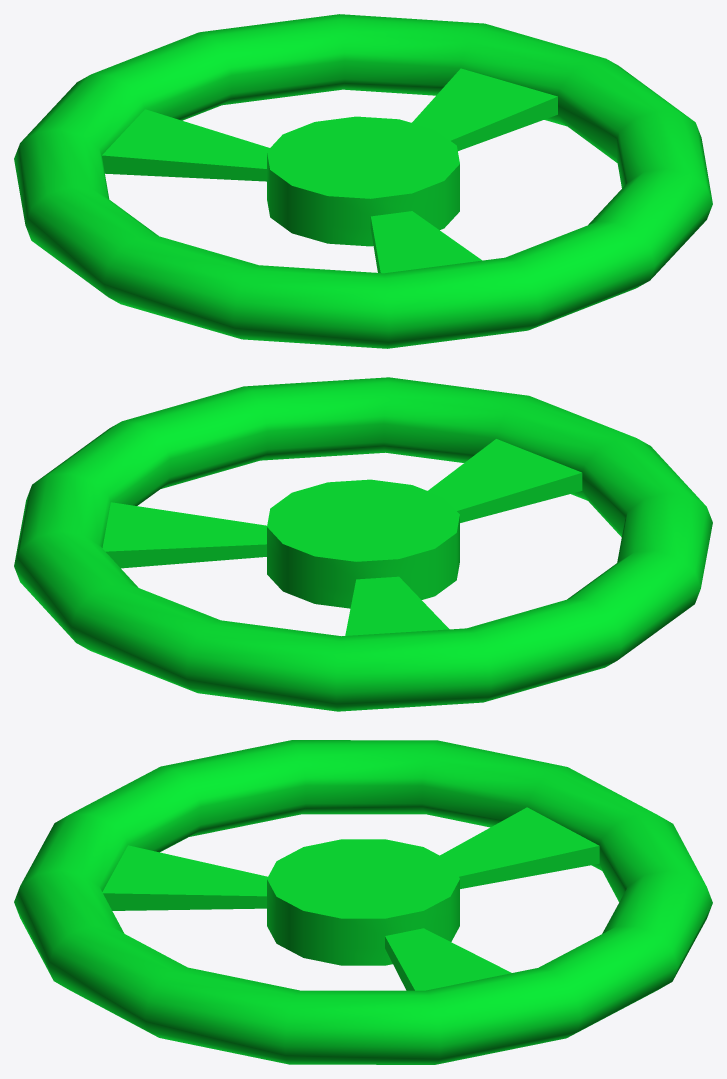
The model's file is Valve.fbx.
The picture shows the model from 3 angles, top to bottom: view 1: azimuth 30°, elevation 25°; view 2: azimuth 150°, elevation 25°; view 3: azimuth 270°, elevation 25°; orthographic projection.
Parts seen in each view (by area): view 1: Cylinder; view 2: Cylinder; view 3: Cylinder.
Boxes of the visible parts, bbox=[...] form: Cylinder: bbox=[14, 14, 712, 348]; Cylinder: bbox=[14, 377, 712, 711]; Cylinder: bbox=[14, 740, 712, 1064].
Bounding box in the file's own units: 49.26 × 5.1 × 50.5.
